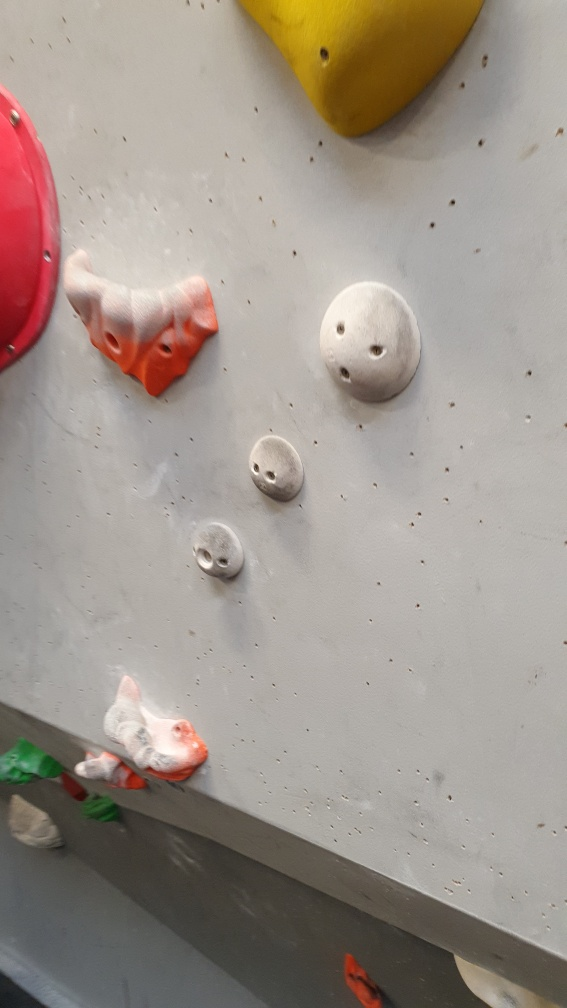Jug: (59, 247, 224, 409), (103, 671, 211, 784)
Sloper: (316, 278, 422, 406), (247, 432, 307, 504), (187, 515, 248, 582)
